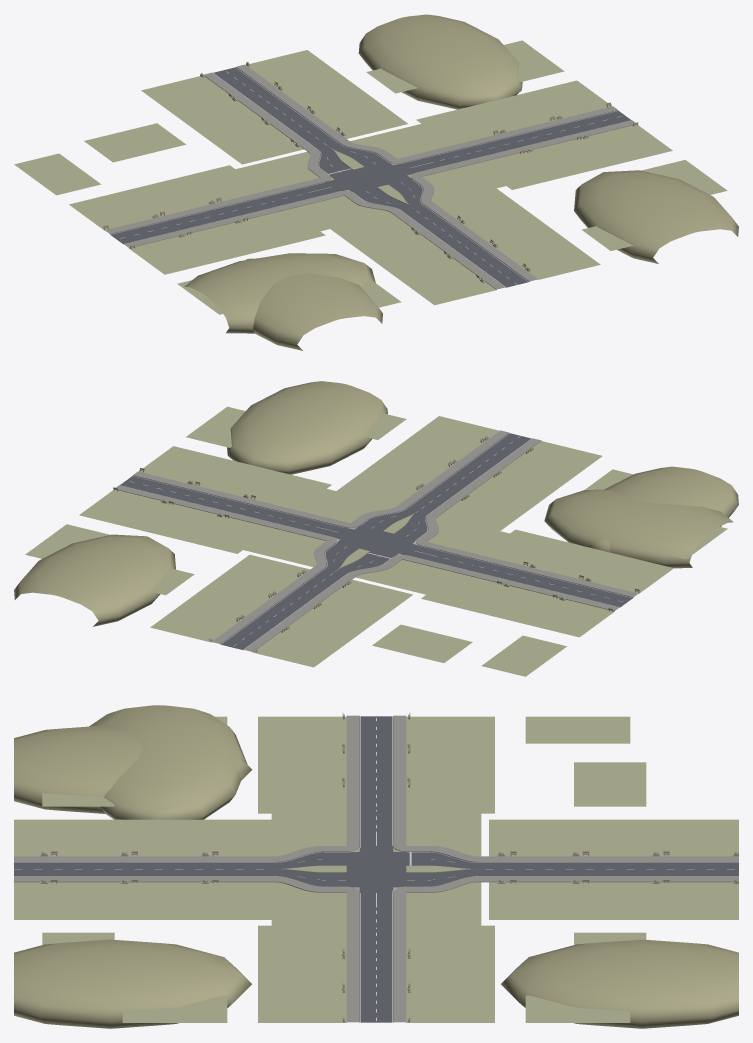
3 views of the same model, one above another, from view 1: azimuth 30°, elevation 25°; view 2: azimuth 150°, elevation 25°; view 3: azimuth 270°, elevation 25° (orthographic). The views are drawn at different scales.
Parts seen in each view (by area): view 1: static; view 2: static; view 3: static.
Boxes of the visible parts, x1=… form: static: x1=14, y1=14, x2=738, y2=350; static: x1=14, y1=381, x2=738, y2=676; static: x1=14, y1=705, x2=738, y2=1028.
Size of what is drawn, in the model's own units: 180 by 14.08 by 180.
